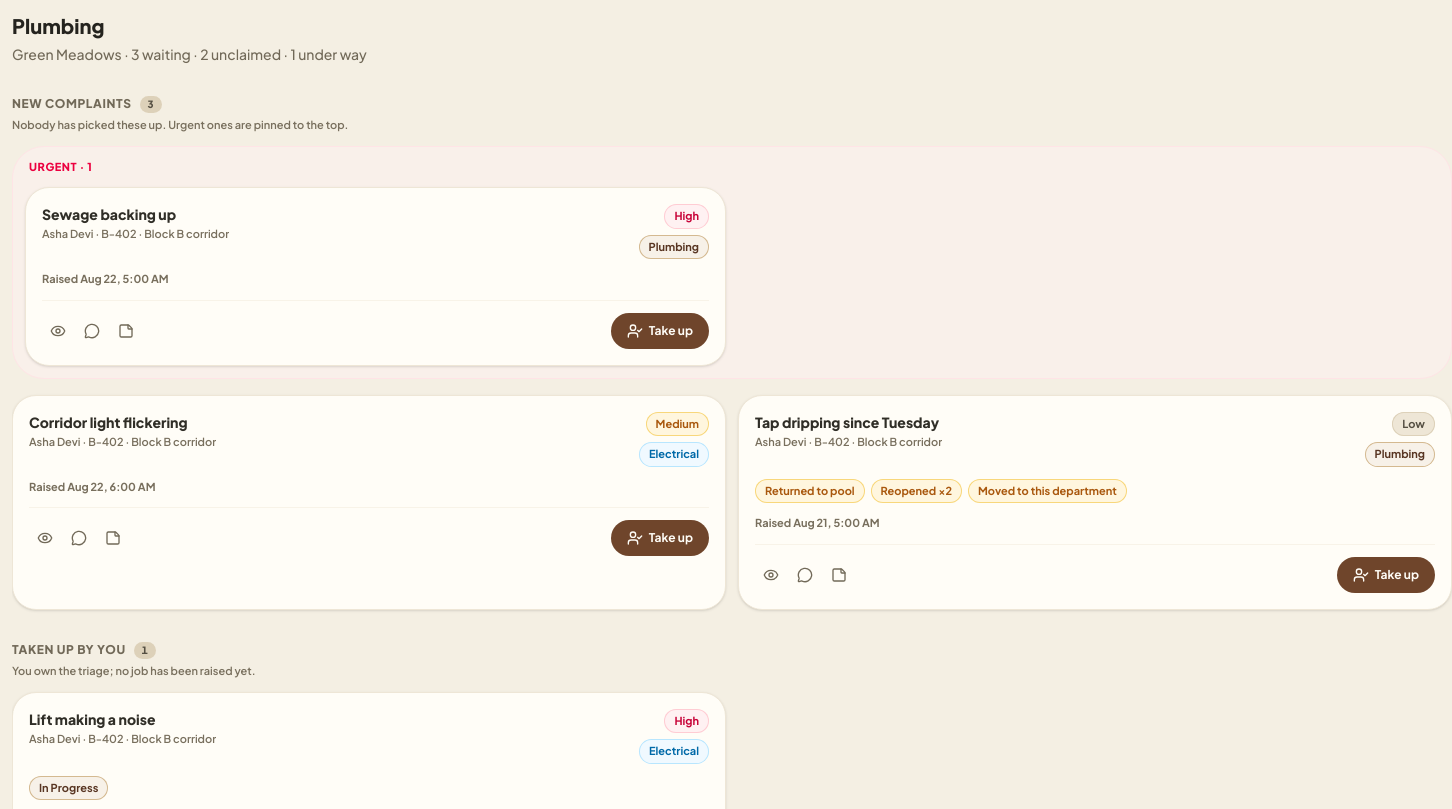
it: taking a complaint up › puts a refusal on the card it was refused for, and leaves the others alone
Expected: the heading "Sewage backing up" is shown, [42, 205, 176, 223]
Click the 1st button "Take up". click: (660, 331)
box: [611, 313, 709, 349]
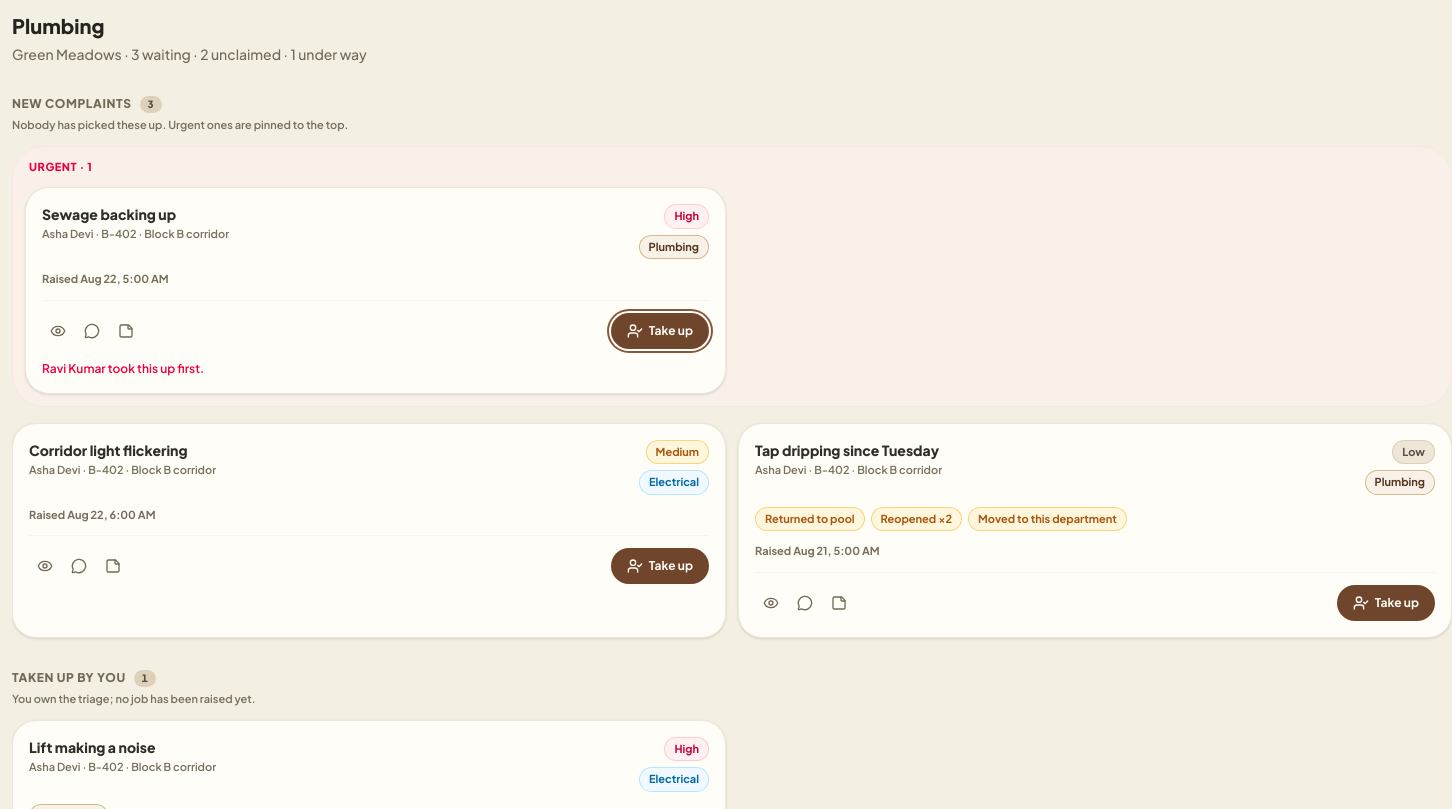
Expected: the message reads "Ravi Kumar took this up first.", [42, 361, 204, 376]
